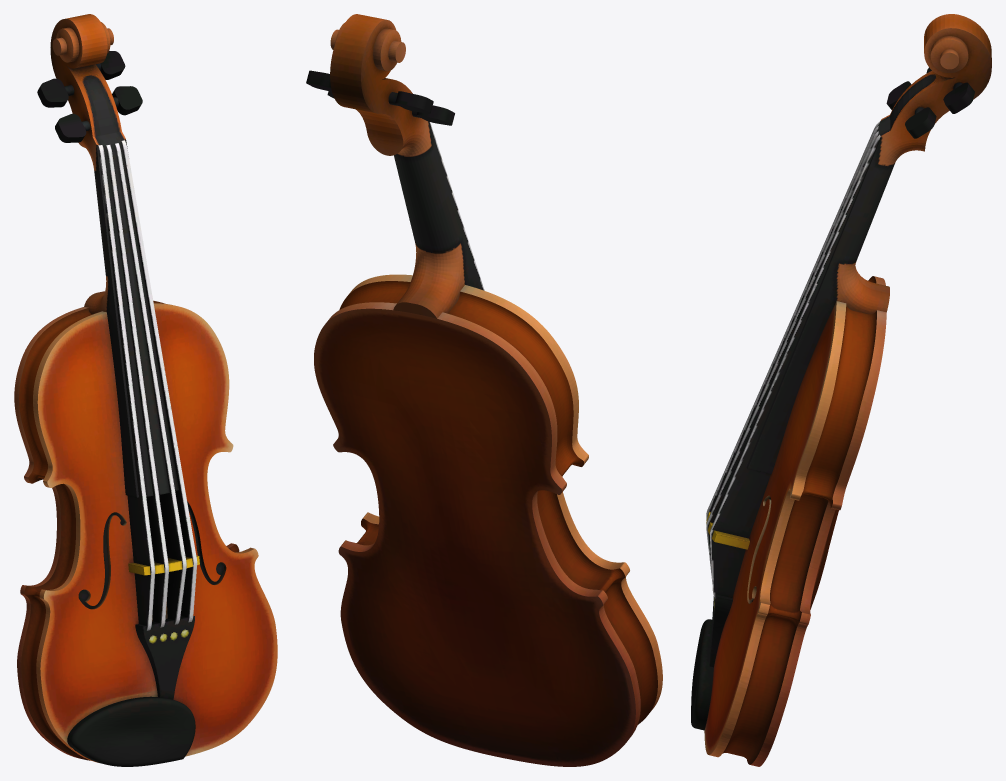
File: violin.fbx
3 views of the same model, side by side, from view 1: azimuth 30°, elevation 25°; view 2: azimuth 150°, elevation 25°; view 3: azimuth 270°, elevation 25° (orthographic). The views are drawn at different scales.
Visible parts, largest first — view 1: node_id166; view 2: node_id166; view 3: node_id166.
Part boxes in pixels (x1,y1,x2,y2): node_id166: (14,14,277,766); node_id166: (306,14,662,766); node_id166: (691,14,991,766).
Size of the model in its own units: 19.17 by 51.38 by 19.14.
